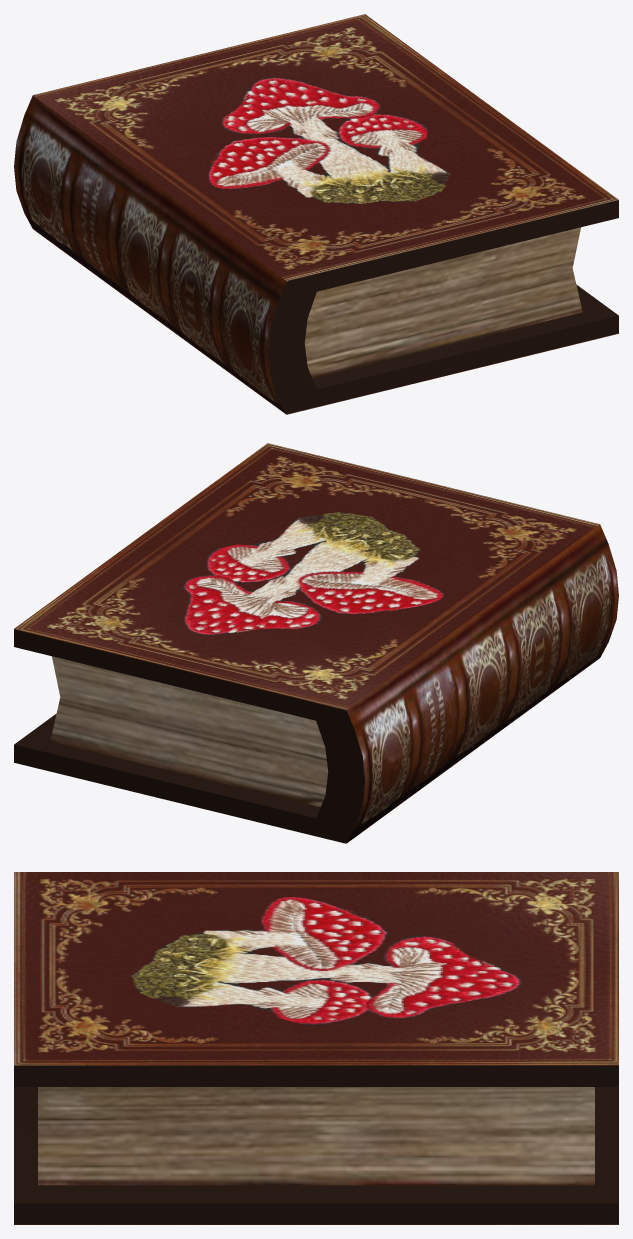
File: Book_N2.fbx
3 renders of one model, top to bottom at view 1: azimuth 30°, elevation 25°; view 2: azimuth 150°, elevation 25°; view 3: azimuth 270°, elevation 25°, orthographic. The views are drawn at different scales.
Visible parts, largest first — view 1: Book_N2; view 2: Book_N2; view 3: Book_N2.
Part boxes in pixels (left/top/right/bottom): Book_N2: left=14, top=14, right=618, bottom=414; Book_N2: left=14, top=443, right=618, bottom=843; Book_N2: left=14, top=872, right=618, bottom=1224.
Size of the model in its own units: 52.83 by 19.24 by 66.13.
